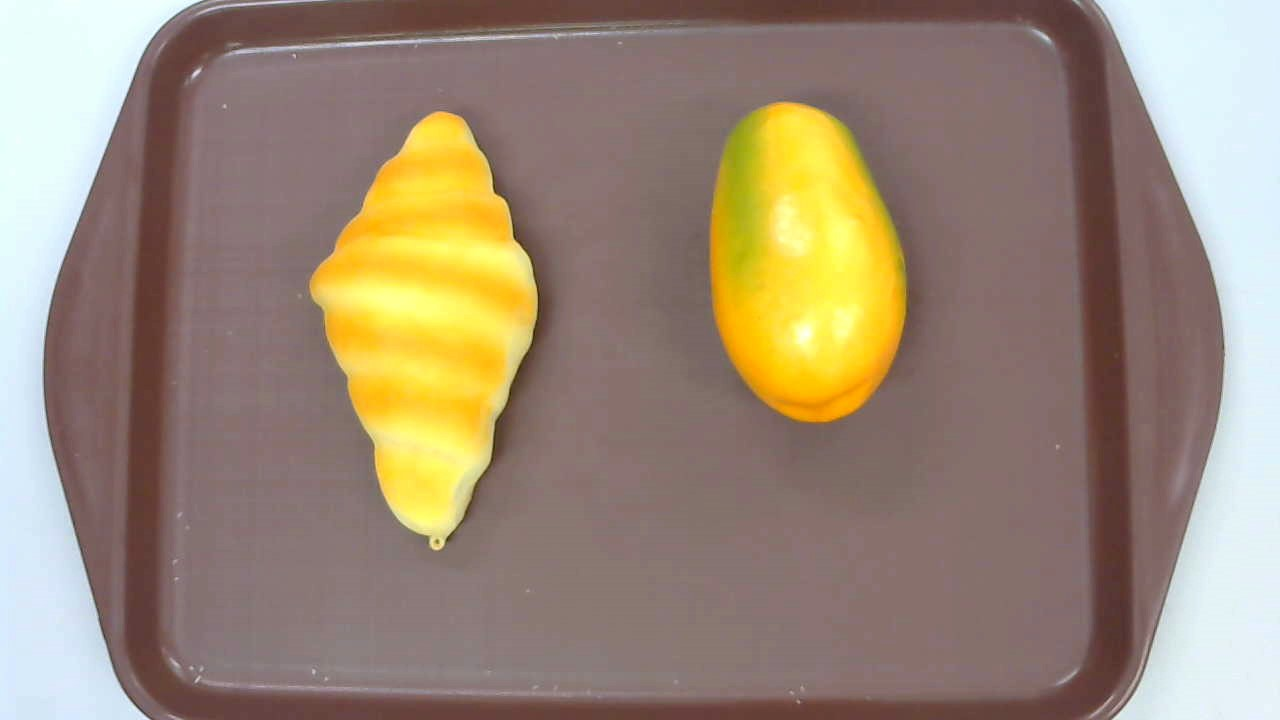croissant: (310, 111, 539, 552)
papya: (709, 101, 907, 422)
